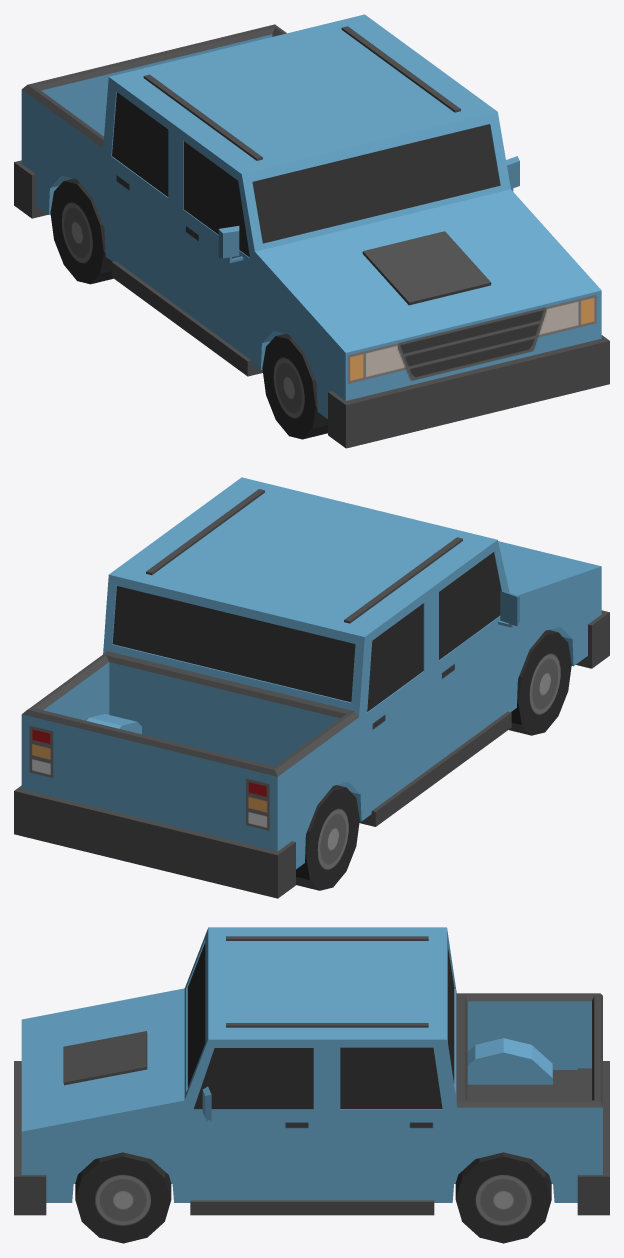
Rendered from vehicle-pick-up-truck-color03.glb.
3 views of the same model, one above another, from view 1: azimuth 30°, elevation 25°; view 2: azimuth 150°, elevation 25°; view 3: azimuth 270°, elevation 25° (orthographic). The views are drawn at different scales.
Parts seen in each view (by area): view 1: model; view 2: model; view 3: model.
Boxes of the visible parts, box(x1,y1,x2,y2) form: model: box(14, 14, 609, 448); model: box(14, 477, 609, 898); model: box(14, 927, 609, 1243).
Bounding box in the file's own units: 3.1 × 2.27 × 5.97.
1 material, 1 textured.
